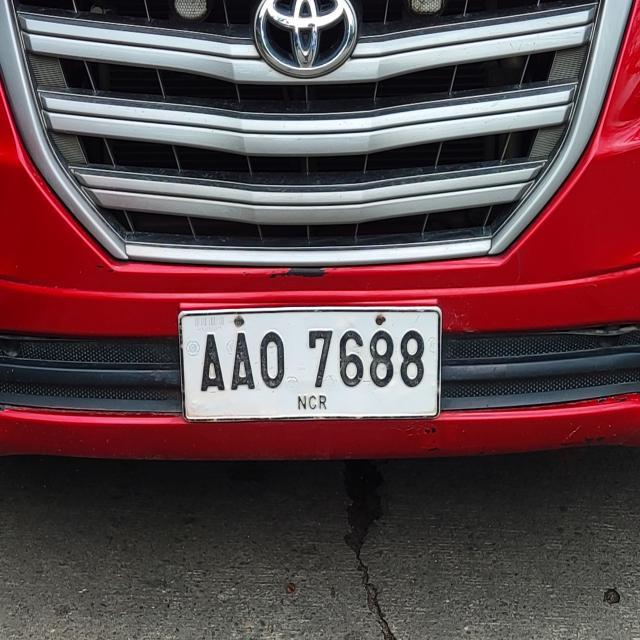LicensePlate: (170, 303, 449, 425)
